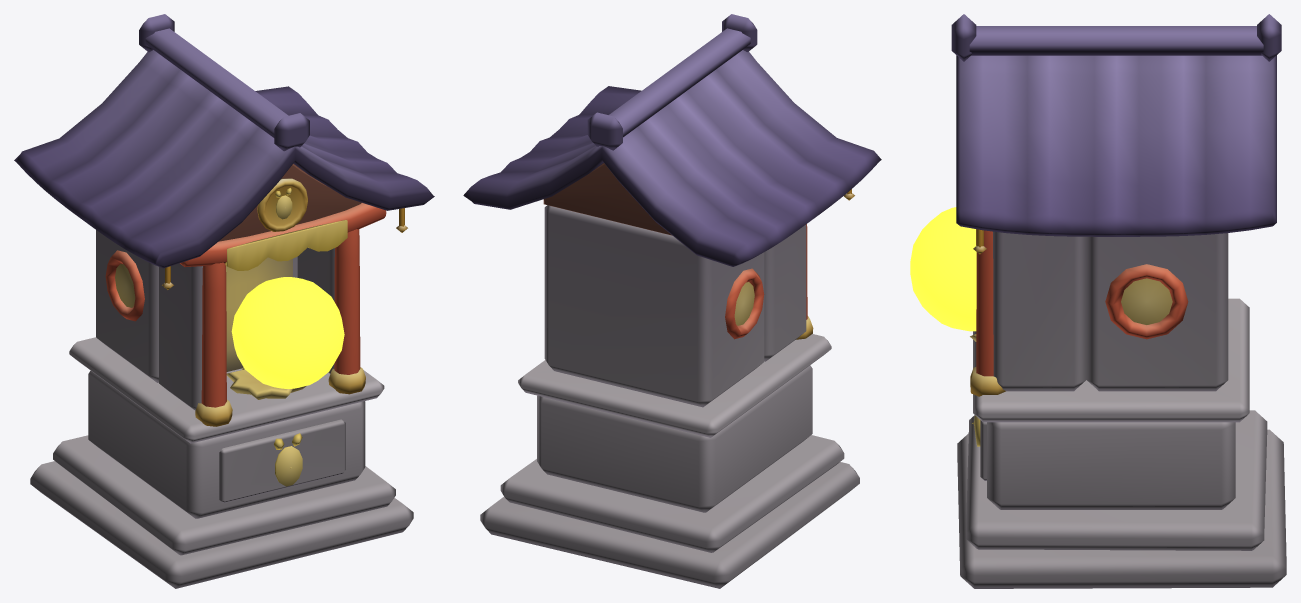
Rendered from shrine-lucky.glb.
3 renders of one model, left to right at view 1: azimuth 30°, elevation 25°; view 2: azimuth 150°, elevation 25°; view 3: azimuth 270°, elevation 25°, orthographic. The views are drawn at different scales.
Parts seen in each view (by area): view 1: base, orb; view 2: base; view 3: base, orb.
Part boxes in pixels (x1,y1,x2,y2): base: (14, 14, 434, 588); orb: (231, 277, 344, 388); base: (463, 14, 881, 588); base: (951, 14, 1286, 588); orb: (910, 207, 976, 331).
Bounding box in the file's own units: 1.02 × 1.57 × 1.06.
